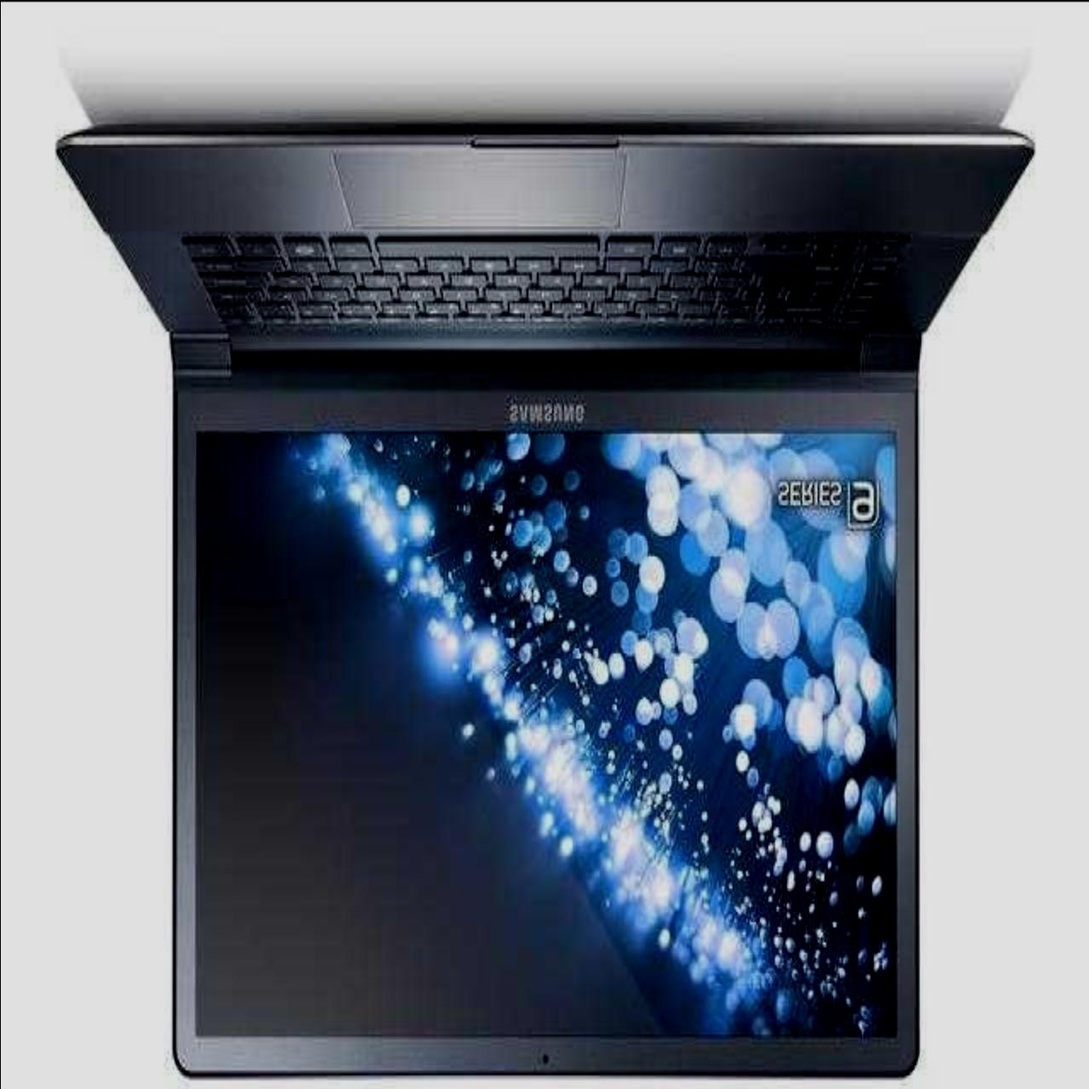laptop: (96, 74, 1034, 1069)
